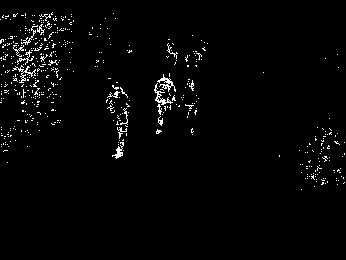person: (104, 79, 131, 160), (152, 71, 177, 135)
